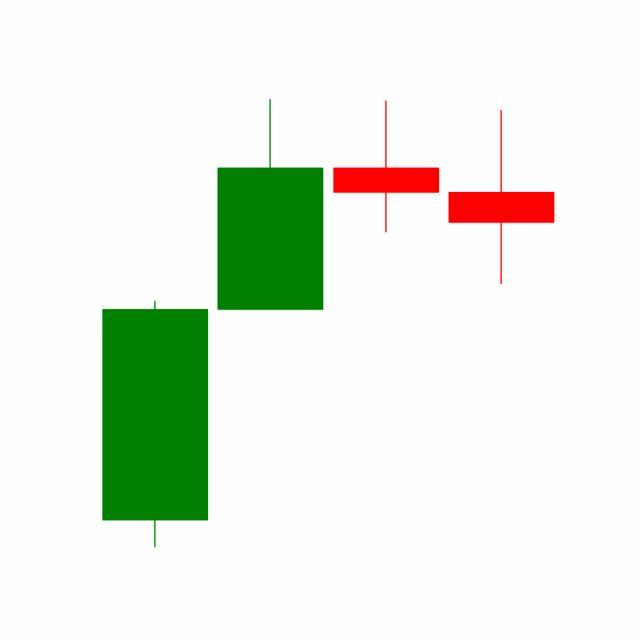Spinning Top: (329, 100, 445, 235)
